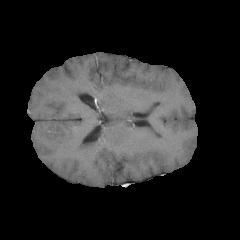glioma: (73, 132, 115, 160)
